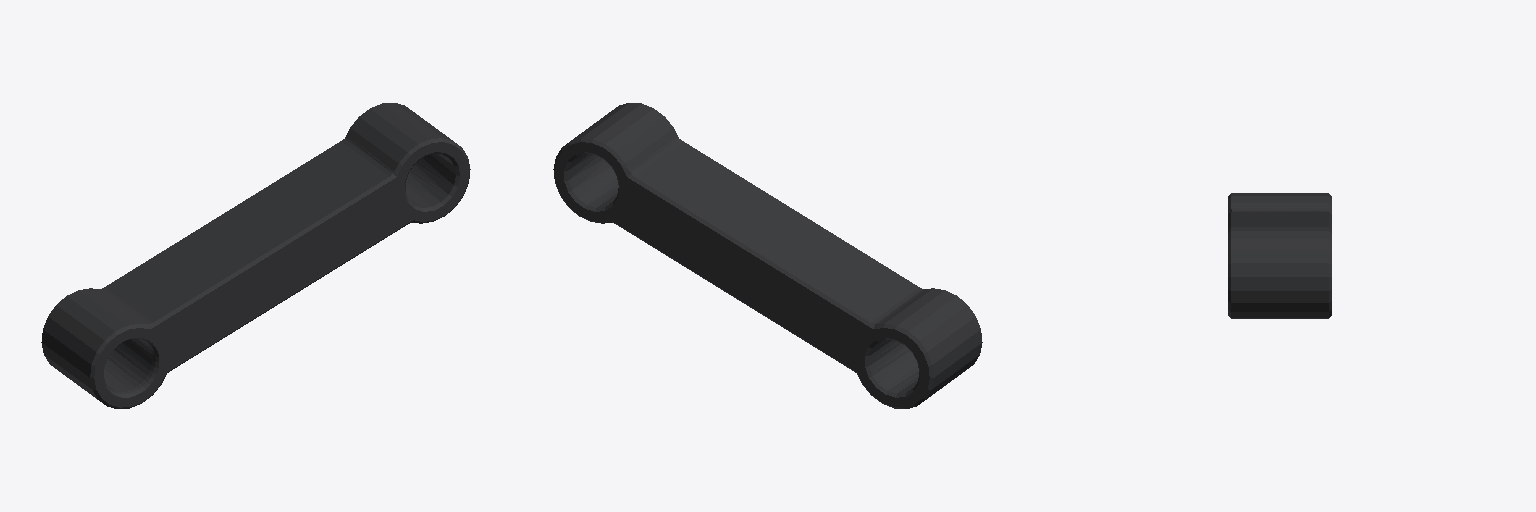
The model's file is vertical_translation_mir.OBJ.
3 views of the same model, side by side, from view 1: azimuth 30°, elevation 25°; view 2: azimuth 150°, elevation 25°; view 3: azimuth 270°, elevation 25° (orthographic).
Parts seen in each view (by area): view 1: /ambf/env/neuro_robot/vertical_translation_mir_vertical_translat; view 2: /ambf/env/neuro_robot/vertical_translation_mir_vertical_translat; view 3: /ambf/env/neuro_robot/vertical_translation_mir_vertical_translat.
Part boxes in pixels (bbox=[...]): /ambf/env/neuro_robot/vertical_translation_mir_vertical_translat: bbox=[41, 103, 470, 408]; /ambf/env/neuro_robot/vertical_translation_mir_vertical_translat: bbox=[553, 103, 982, 408]; /ambf/env/neuro_robot/vertical_translation_mir_vertical_translat: bbox=[1228, 193, 1331, 318].
Bounding box in the file's own units: 0.0715 × 0.0352 × 0.0168.